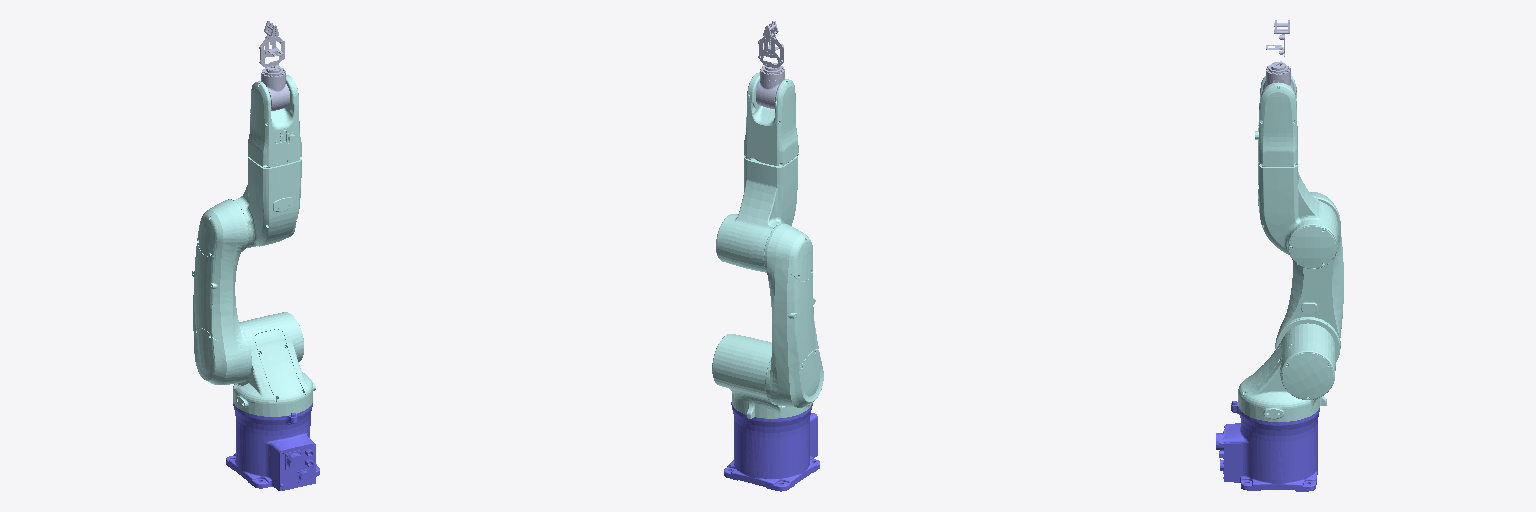
robot.urdf — VS 6577-E-G_new_coor_standup_gripper_v5_temp.SLDASM:
<?xml version="1.0" encoding="utf-8"?>
<!-- This URDF was automatically created by SolidWorks to URDF Exporter! Originally created by Stephen Brawner (brawner@gmail.com) 
     Commit Version: 1.6.0-4-g7f85cfe  Build Version: 1.6.7995.38578
     For more information, please see http://wiki.ros.org/sw_urdf_exporter -->
<robot
  name="VS 6577-E-G_new_coor_standup_gripper_v5_temp.SLDASM">
  <link
    name="base_link">
    <inertial>
      <origin
        xyz="-0.00047006 -0.012257 0.10022"
        rpy="0 0 0" />
      <mass
        value="55.785" />
      <inertia
        ixx="0.39179"
        ixy="-0.0027323"
        ixz="-0.00075955"
        iyy="0.323"
        iyz="-0.022558"
        izz="0.34492" />
    </inertial>
    <visual>
      <origin
        xyz="0 0 0"
        rpy="0 0 0" />
      <geometry>
        <mesh
          filename="package://VS 6577-E-G_new_coor_standup_gripper_v5_temp.SLDASM/meshes/base_link.STL" />
      </geometry>
      <material
        name="">
        <color
          rgba="0.50196 0.50196 1 1" />
      </material>
    </visual>
    <collision>
      <origin
        xyz="0 0 0"
        rpy="0 0 0" />
      <geometry>
        <mesh
          filename="package://VS 6577-E-G_new_coor_standup_gripper_v5_temp.SLDASM/meshes/base_link.STL" />
      </geometry>
    </collision>
  </link>
  <link
    name="link_1">
    <inertial>
      <origin
        xyz="0.0075871 0.03734 0.10645"
        rpy="0 0 0" />
      <mass
        value="44.267" />
      <inertia
        ixx="0.28548"
        ixy="-0.012987"
        ixz="-0.013929"
        iyy="0.25047"
        iyz="-0.073189"
        izz="0.26167" />
    </inertial>
    <visual>
      <origin
        xyz="0 0 0"
        rpy="0 0 0" />
      <geometry>
        <mesh
          filename="package://VS 6577-E-G_new_coor_standup_gripper_v5_temp.SLDASM/meshes/link_1.STL" />
      </geometry>
      <material
        name="">
        <color
          rgba="0.78431 0.98039 0.98039 1" />
      </material>
    </visual>
    <collision>
      <origin
        xyz="0 0 0"
        rpy="0 0 0" />
      <geometry>
        <mesh
          filename="package://VS 6577-E-G_new_coor_standup_gripper_v5_temp.SLDASM/meshes/link_1.STL" />
      </geometry>
    </collision>
  </link>
  <joint
    name="X_joint"
    type="revolute">
    <origin
      xyz="0 0 0.183"
      rpy="0 0 0" />
    <parent
      link="base_link" />
    <child
      link="link_1" />
    <axis
      xyz="0 0 1" />
    <limit
      lower="-2.9671"
      upper="2.9671"
      effort="1"
      velocity="3.0543" />
  </joint>
  <link
    name="link_2">
    <inertial>
      <origin
        xyz="-0.068043780087778 0.014140910340166 0.158490980475755"
        rpy="0 0 0" />
      <mass
        value="43.3387438811875" />
      <inertia
        ixx="0.977219187562445"
        ixy="0.00144844221271251"
        ixz="-0.021078642737214"
        iyy="0.940664030252845"
        iyz="-0.0372886990528127"
        izz="0.0935514301099311" />
    </inertial>
    <visual>
      <origin
        xyz="0 0 0"
        rpy="0 0 0" />
      <geometry>
        <mesh
          filename="package://VS 6577-E-G_new_coor_standup_gripper_v5_temp.SLDASM/meshes/link_2.STL" />
      </geometry>
      <material
        name="">
        <color
          rgba="0.784313725490196 0.980392156862745 0.980392156862745 1" />
      </material>
    </visual>
    <collision>
      <origin
        xyz="0 0 0"
        rpy="0 0 0" />
      <geometry>
        <mesh
          filename="package://VS 6577-E-G_new_coor_standup_gripper_v5_temp.SLDASM/meshes/link_2.STL" />
      </geometry>
    </collision>
  </link>
  <joint
    name="Y_joint"
    type="revolute">
    <origin
      xyz="-0.048 0.075 0.15"
      rpy="0 0 0" />
    <parent
      link="link_1" />
    <child
      link="link_2" />
    <axis
      xyz="-1 0 0" />
    <limit
      lower="-1.7453"
      upper="2.3562"
      effort="1"
      velocity="3.4907" />
  </joint>
  <link
    name="link_3">
    <inertial>
      <origin
        xyz="0.054747 -0.045778 0.060447"
        rpy="0 0 0" />
      <mass
        value="37.594" />
      <inertia
        ixx="0.31727"
        ixy="-0.0048815"
        ixz="0.0065087"
        iyy="0.26582"
        iyz="0.088578"
        izz="0.16116" />
    </inertial>
    <visual>
      <origin
        xyz="0 0 0"
        rpy="0 0 0" />
      <geometry>
        <mesh
          filename="package://VS 6577-E-G_new_coor_standup_gripper_v5_temp.SLDASM/meshes/link_3.STL" />
      </geometry>
      <material
        name="">
        <color
          rgba="0.78431 0.98039 0.98039 1" />
      </material>
    </visual>
    <collision>
      <origin
        xyz="0 0 0"
        rpy="0 0 0" />
      <geometry>
        <mesh
          filename="package://VS 6577-E-G_new_coor_standup_gripper_v5_temp.SLDASM/meshes/link_3.STL" />
      </geometry>
    </collision>
  </link>
  <joint
    name="Z_joint"
    type="revolute">
    <origin
      xyz="0 0.012264 0.36479"
      rpy="0 0 0" />
    <parent
      link="link_2" />
    <child
      link="link_3" />
    <axis
      xyz="-1 0 0" />
    <limit
      lower="-2.0769"
      upper="2.9496"
      effort="1"
      velocity="3.4907" />
  </joint>
  <link
    name="link_4">
    <inertial>
      <origin
        xyz="0.0051846 -0.00064606 0.10645"
        rpy="0 0 0" />
      <mass
        value="14.917" />
      <inertia
        ixx="0.062769"
        ixy="3.6977E-05"
        ixz="-0.001868"
        iyy="0.069443"
        iyz="-0.00032273"
        izz="0.028683" />
    </inertial>
    <visual>
      <origin
        xyz="0 0 0"
        rpy="0 0 0" />
      <geometry>
        <mesh
          filename="package://VS 6577-E-G_new_coor_standup_gripper_v5_temp.SLDASM/meshes/link_4.STL" />
      </geometry>
      <material
        name="">
        <color
          rgba="0.78431 0.98039 0.98039 1" />
      </material>
    </visual>
    <collision>
      <origin
        xyz="0 0 0"
        rpy="0 0 0" />
      <geometry>
        <mesh
          filename="package://VS 6577-E-G_new_coor_standup_gripper_v5_temp.SLDASM/meshes/link_4.STL" />
      </geometry>
    </collision>
  </link>
  <joint
    name="A_joint"
    type="revolute">
    <origin
      xyz="0.048 -0.09 0.198"
      rpy="0 0 0" />
    <parent
      link="link_3" />
    <child
      link="link_4" />
    <axis
      xyz="0 0 1" />
    <limit
      lower="-3.3161"
      upper="3.3161"
      effort="1"
      velocity="5.236" />
  </joint>
  <link
    name="link_5">
    <inertial>
      <origin
        xyz="-0.00049422 2.4246E-07 0.0067098"
        rpy="0 0 0" />
      <mass
        value="0.34309" />
      <inertia
        ixx="0.00034995"
        ixy="-1.2487E-09"
        ixz="-1.1371E-06"
        iyy="0.00030039"
        iyz="-1.4302E-09"
        izz="0.00022745" />
    </inertial>
    <visual>
      <origin
        xyz="0 0 0"
        rpy="0 0 0" />
      <geometry>
        <mesh
          filename="package://VS 6577-E-G_new_coor_standup_gripper_v5_temp.SLDASM/meshes/link_5.STL" />
      </geometry>
      <material
        name="">
        <color
          rgba="0.79216 0.81961 0.93333 1" />
      </material>
    </visual>
    <collision>
      <origin
        xyz="0 0 0"
        rpy="0 0 0" />
      <geometry>
        <mesh
          filename="package://VS 6577-E-G_new_coor_standup_gripper_v5_temp.SLDASM/meshes/link_5.STL" />
      </geometry>
    </collision>
  </link>
  <joint
    name="B_joint"
    type="revolute">
    <origin
      xyz="0 0 0.207"
      rpy="0 0 0" />
    <parent
      link="link_4" />
    <child
      link="link_5" />
    <axis
      xyz="1 0 0" />
    <limit
      lower="-2.0944"
      upper="2.0944"
      effort="1"
      velocity="5.236" />
  </joint>
  <link
    name="link_6">
    <inertial>
      <origin
        xyz="3.1956E-05 1.0191E-06 0.011587"
        rpy="0 0 0" />
      <mass
        value="0.068739" />
      <inertia
        ixx="2.0616E-05"
        ixy="5.2203E-09"
        ixz="-2.8476E-08"
        iyy="2.0453E-05"
        iyz="-9.0808E-10"
        izz="3.4376E-05" />
    </inertial>
    <visual>
      <origin
        xyz="0 0 0"
        rpy="0 0 0" />
      <geometry>
        <mesh
          filename="package://VS 6577-E-G_new_coor_standup_gripper_v5_temp.SLDASM/meshes/link_6.STL" />
      </geometry>
      <material
        name="">
        <color
          rgba="0.79216 0.81961 0.93333 1" />
      </material>
    </visual>
    <collision>
      <origin
        xyz="0 0 0"
        rpy="0 0 0" />
      <geometry>
        <mesh
          filename="package://VS 6577-E-G_new_coor_standup_gripper_v5_temp.SLDASM/meshes/link_6.STL" />
      </geometry>
    </collision>
  </link>
  <joint
    name="C_joint"
    type="revolute">
    <origin
      xyz="0 0 0.052"
      rpy="0 0 0" />
    <parent
      link="link_5" />
    <child
      link="link_6" />
    <axis
      xyz="0 0 1" />
    <limit
      lower="-6.2832"
      upper="6.2832"
      effort="1"
      velocity="8.3776" />
  </joint>
  <link
    name="gripper_body_link">
    <inertial>
      <origin
        xyz="6.5243E-15 8.0178E-14 0.003"
        rpy="0 0 0" />
      <mass
        value="0.001885" />
      <inertia
        ixx="5.2779E-08"
        ixy="1.9953E-35"
        ixz="4.1685E-22"
        iyy="5.2779E-08"
        iyz="1.9842E-21"
        izz="9.4248E-08" />
    </inertial>
    <visual>
      <origin
        xyz="0 0 0"
        rpy="0 0 0" />
      <geometry>
        <mesh
          filename="package://VS 6577-E-G_new_coor_standup_gripper_v5_temp.SLDASM/meshes/gripper_body_link.STL" />
      </geometry>
      <material
        name="">
        <color
          rgba="0.79216 0.81961 0.93333 1" />
      </material>
    </visual>
    <collision>
      <origin
        xyz="0 0 0"
        rpy="0 0 0" />
      <geometry>
        <mesh
          filename="package://VS 6577-E-G_new_coor_standup_gripper_v5_temp.SLDASM/meshes/gripper_body_link.STL" />
      </geometry>
    </collision>
  </link>
  <joint
    name="gripper_body_joint"
    type="fixed">
    <origin
      xyz="0 0 0.0219999999999994"
      rpy="0 0 0" />
    <parent
      link="link_6" />
    <child
      link="gripper_body_link" />
    <axis
      xyz="0 0 0" />
  </joint>
  <link
    name="gripper_gear_right">
    <inertial>
      <origin
        xyz="-0.011853 0.017473 -0.79923"
        rpy="0 0 0" />
      <mass
        value="196.34" />
      <inertia
        ixx="18.56"
        ixy="0.26433"
        ixz="0.20657"
        iyy="18.59"
        iyz="-0.78287"
        izz="1.655" />
    </inertial>
    <visual>
      <origin
        xyz="0 0 0"
        rpy="0 0 0" />
      <geometry>
        <mesh
          filename="package://VS 6577-E-G_new_coor_standup_gripper_v5_temp.SLDASM/meshes/gripper_gear_right.STL" />
      </geometry>
      <material
        name="">
        <color
          rgba="0.79216 0.81961 0.93333 1" />
      </material>
    </visual>
    <collision>
      <origin
        xyz="0 0 0"
        rpy="0 0 0" />
      <geometry>
        <mesh
          filename="package://VS 6577-E-G_new_coor_standup_gripper_v5_temp.SLDASM/meshes/gripper_gear_right.STL" />
      </geometry>
    </collision>
  </link>
  <joint
    name="gripper_gear_right_joint"
    type="revolute">
    <origin
      xyz="-0.0105000000000263 0.0175575664610773 0.0484957779974575"
      rpy="0 0 0" />
    <parent
      link="gripper_body_link" />
    <child
      link="gripper_gear_right" />
    <axis
      xyz="0 -1 0" />
    <limit
      lower="0"
      upper="0"
      effort="0"
      velocity="0" />
  </joint>
  <link
    name="gripper_head_right">
    <inertial>
      <origin
        xyz="-0.011035027899171 0.0174728819694071 -0.842420319360891"
        rpy="0 0 0" />
      <mass
        value="196.338532376492" />
      <inertia
        ixx="18.5599193146117"
        ixy="0.264332568164611"
        ixz="0.206568713064759"
        iyy="18.5903422885118"
        iyz="-0.782868960063179"
        izz="1.65500543821654" />
    </inertial>
    <visual>
      <origin
        xyz="0 0 0"
        rpy="0 0 0" />
      <geometry>
        <mesh
          filename="package://VS 6577-E-G_new_coor_standup_gripper_v5_temp.SLDASM/meshes/gripper_head_right.STL" />
      </geometry>
      <material
        name="">
        <color
          rgba="0.792156862745098 0.819607843137255 0.933333333333333 1" />
      </material>
    </visual>
    <collision>
      <origin
        xyz="0 0 0"
        rpy="0 0 0" />
      <geometry>
        <mesh
          filename="package://VS 6577-E-G_new_coor_standup_gripper_v5_temp.SLDASM/meshes/gripper_head_right.STL" />
      </geometry>
    </collision>
  </link>
  <joint
    name="gripper_head_right_joint"
    type="fixed">
    <origin
      xyz="-0.000818014467841976 0 0.043192254540952"
      rpy="0 0 0" />
    <parent
      link="gripper_gear_right" />
    <child
      link="gripper_head_right" />
    <axis
      xyz="0 0 0" />
  </joint>
  <link
    name="gripper_support_right">
    <inertial>
      <origin
        xyz="0.00914695763298622 0.0255728819694327 -0.778228064819941"
        rpy="0 0 0" />
      <mass
        value="196.338532376492" />
      <inertia
        ixx="18.5599193146117"
        ixy="0.264332568164611"
        ixz="0.206568713064758"
        iyy="18.5903422885118"
        iyz="-0.782868960063179"
        izz="1.65500543821654" />
    </inertial>
    <visual>
      <origin
        xyz="0 0 0"
        rpy="0 0 0" />
      <geometry>
        <mesh
          filename="package://VS 6577-E-G_new_coor_standup_gripper_v5_temp.SLDASM/meshes/gripper_support_right.STL" />
      </geometry>
      <material
        name="">
        <color
          rgba="0.792156862745098 0.819607843137255 0.933333333333333 1" />
      </material>
    </visual>
    <collision>
      <origin
        xyz="0 0 0"
        rpy="0 0 0" />
      <geometry>
        <mesh
          filename="package://VS 6577-E-G_new_coor_standup_gripper_v5_temp.SLDASM/meshes/gripper_support_right.STL" />
      </geometry>
    </collision>
  </link>
  <joint
    name="gripper_support_right_joint"
    type="revolute">
    <origin
      xyz="-0.0315000000000258 0.00945756646105398 0.0274957779974601"
      rpy="0 0 0" />
    <parent
      link="gripper_body_link" />
    <child
      link="gripper_support_right" />
    <axis
      xyz="0 -1 0" />
    <limit
      lower="0"
      upper="0"
      effort="0"
      velocity="0" />
  </joint>
  <link
    name="gripper_gear_left">
    <inertial>
      <origin
        xyz="-0.0328530423670578 0.0174728819694509 -0.79922806481994"
        rpy="0 0 0" />
      <mass
        value="196.338532376492" />
      <inertia
        ixx="18.5599193146117"
        ixy="0.264332568164611"
        ixz="0.206568713064758"
        iyy="18.5903422885118"
        iyz="-0.782868960063179"
        izz="1.65500543821654" />
    </inertial>
    <visual>
      <origin
        xyz="0 0 0"
        rpy="0 0 0" />
      <geometry>
        <mesh
          filename="package://VS 6577-E-G_new_coor_standup_gripper_v5_temp.SLDASM/meshes/gripper_gear_left.STL" />
      </geometry>
      <material
        name="">
        <color
          rgba="0.792156862745098 0.819607843137255 0.933333333333333 1" />
      </material>
    </visual>
    <collision>
      <origin
        xyz="0 0 0"
        rpy="0 0 0" />
      <geometry>
        <mesh
          filename="package://VS 6577-E-G_new_coor_standup_gripper_v5_temp.SLDASM/meshes/gripper_gear_left.STL" />
      </geometry>
    </collision>
  </link>
  <joint
    name="gripper_gear_left_joint"
    type="revolute">
    <origin
      xyz="0.0105 0.017558 0.048496"
      rpy="0 0 0" />
    <parent
      link="gripper_body_link" />
    <child
      link="gripper_gear_left" />
    <axis
      xyz="0 -1 0" />
    <limit
      lower="0"
      upper="0"
      effort="0"
      velocity="0" />
    <mimic
      joint="gripper_gear_right_joint"
      multiplier="1"
      offset="0" />
  </joint>
  <link
    name="gripper_head_left">
    <inertial>
      <origin
        xyz="-0.0333772913192507 0.0174728819694482 -0.842424883719442"
        rpy="0 0 0" />
      <mass
        value="196.338532376492" />
      <inertia
        ixx="18.5599193146117"
        ixy="0.264332568164605"
        ixz="0.20656871306462"
        iyy="18.5903422885118"
        iyz="-0.782868960063181"
        izz="1.65500543821653" />
    </inertial>
    <visual>
      <origin
        xyz="0 0 0"
        rpy="0 0 0" />
      <geometry>
        <mesh
          filename="package://VS 6577-E-G_new_coor_standup_gripper_v5_temp.SLDASM/meshes/gripper_head_left.STL" />
      </geometry>
      <material
        name="">
        <color
          rgba="0.792156862745098 0.819607843137255 0.933333333333333 1" />
      </material>
    </visual>
    <collision>
      <origin
        xyz="0 0 0"
        rpy="0 0 0" />
      <geometry>
        <mesh
          filename="package://VS 6577-E-G_new_coor_standup_gripper_v5_temp.SLDASM/meshes/gripper_head_left.STL" />
      </geometry>
    </collision>
  </link>
  <joint
    name="gripper_head_left_joint"
    type="fixed">
    <origin
      xyz="0.000524248952185996 0 0.0431968188995016"
      rpy="0 0 0" />
    <parent
      link="gripper_gear_left" />
    <child
      link="gripper_head_left" />
    <axis
      xyz="0 0 0" />
  </joint>
  <link
    name="gripper_support_left">
    <inertial>
      <origin
        xyz="-0.0538530423670568 0.0255728819694048 -0.778228064819941"
        rpy="0 0 0" />
      <mass
        value="196.338532376492" />
      <inertia
        ixx="18.5599193146117"
        ixy="0.264332568164611"
        ixz="0.206568713064759"
        iyy="18.5903422885118"
        iyz="-0.782868960063179"
        izz="1.65500543821654" />
    </inertial>
    <visual>
      <origin
        xyz="0 0 0"
        rpy="0 0 0" />
      <geometry>
        <mesh
          filename="package://VS 6577-E-G_new_coor_standup_gripper_v5_temp.SLDASM/meshes/gripper_support_left.STL" />
      </geometry>
      <material
        name="">
        <color
          rgba="0.792156862745098 0.819607843137255 0.933333333333333 1" />
      </material>
    </visual>
    <collision>
      <origin
        xyz="0 0 0"
        rpy="0 0 0" />
      <geometry>
        <mesh
          filename="package://VS 6577-E-G_new_coor_standup_gripper_v5_temp.SLDASM/meshes/gripper_support_left.STL" />
      </geometry>
    </collision>
  </link>
  <joint
    name="gripper_support_left_joint"
    type="revolute">
    <origin
      xyz="0.0315 0.0094576 0.027496"
      rpy="0 0 0" />
    <parent
      link="gripper_body_link" />
    <child
      link="gripper_support_left" />
    <axis
      xyz="0 -1 0" />
    <limit
      lower="0"
      upper="0"
      effort="0"
      velocity="0" />
    <mimic
      joint="gripper_support_right_joint"
      multiplier="1"
      offset="0" />
  </joint>
</robot>

--- What the picture shows (computed from the rendered views, not written in the file) ---
3 views of the same robot in one strip: view 1: azimuth 30°, elevation 25°; view 2: azimuth 150°, elevation 25°; view 3: azimuth 270°, elevation 25° (orthographic).
Robot: VS 6577-E-G_new_coor_standup_gripper_v5_temp.SLDASM — 14 links, 13 joints (10 revolute, 3 fixed); root link base_link; default pose: every joint at zero.
Links seen in each view (by area): view 1: link_2, link_1, base_link, link_3, link_4, link_5; view 2: link_2, base_link, link_3, link_1, link_4, link_5; view 3: link_1, base_link, link_3, link_2, link_4.
Link boxes in pixels (bbox=[...]): link_2: bbox=[192, 199, 250, 384]; link_1: bbox=[233, 312, 315, 416]; base_link: bbox=[226, 403, 319, 490]; link_3: bbox=[228, 157, 301, 251]; link_4: bbox=[248, 75, 301, 167]; link_5: bbox=[261, 78, 289, 110]; link_2: bbox=[764, 223, 823, 407]; base_link: bbox=[724, 402, 819, 491]; link_3: bbox=[716, 156, 797, 272]; link_1: bbox=[712, 334, 812, 418]; link_4: bbox=[744, 72, 798, 165]; link_5: bbox=[756, 76, 784, 108]; link_1: bbox=[1238, 319, 1339, 421]; base_link: bbox=[1216, 401, 1319, 491]; link_3: bbox=[1258, 162, 1339, 268]; link_2: bbox=[1275, 192, 1343, 348]; link_4: bbox=[1255, 76, 1297, 166].
Bounding box of the posed robot: 0.282 × 0.3351 × 1.31 m (x, y, z).
14 mesh visuals loaded from 14 distinct referenced files (14 binary STL).
